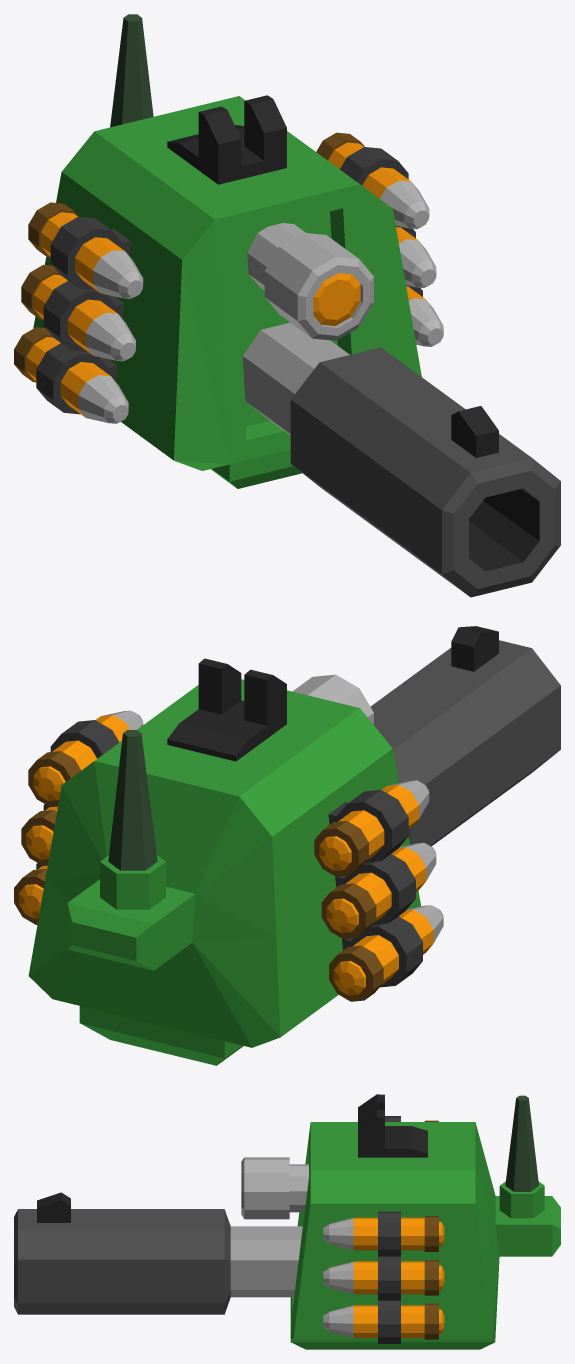
File: snipe_cannon.fbx
3 renders of one model, top to bottom at view 1: azimuth 30°, elevation 25°; view 2: azimuth 150°, elevation 25°; view 3: azimuth 270°, elevation 25°, orthographic. The views are drawn at different scales.
Parts seen in each view (by area): view 1: Cube.062, Cube.063, Cylinder.034, Cylinder.033, Cube.064, Circle.016; view 2: Cube.062, Cylinder.034, Cube.063, Cube.064, Circle.016, Cylinder.033; view 3: Cube.062, Cube.063, Cylinder.034, Cylinder.033, Circle.016, Cube.064.
Part boxes in pixels (x1,y1,x2,y2): Cube.062: [33, 96, 421, 488]; Cube.063: [242, 322, 560, 597]; Cylinder.034: [14, 132, 443, 423]; Cylinder.033: [247, 223, 373, 340]; Cube.064: [167, 95, 286, 184]; Circle.016: [110, 14, 153, 127]; Cube.062: [28, 679, 420, 1065]; Cylinder.034: [14, 710, 443, 1001]; Cube.063: [370, 626, 560, 846]; Cube.064: [167, 658, 286, 761]; Circle.016: [100, 730, 165, 909]; Cylinder.033: [292, 674, 373, 724]; Cube.062: [290, 1122, 560, 1349]; Cube.063: [14, 1192, 302, 1314]; Cylinder.034: [323, 1116, 444, 1343]; Cylinder.033: [241, 1157, 308, 1219]; Circle.016: [499, 1095, 544, 1218]; Cube.064: [358, 1094, 427, 1157].
Bounding box in the file's own units: 109 × 96.68 × 205.
